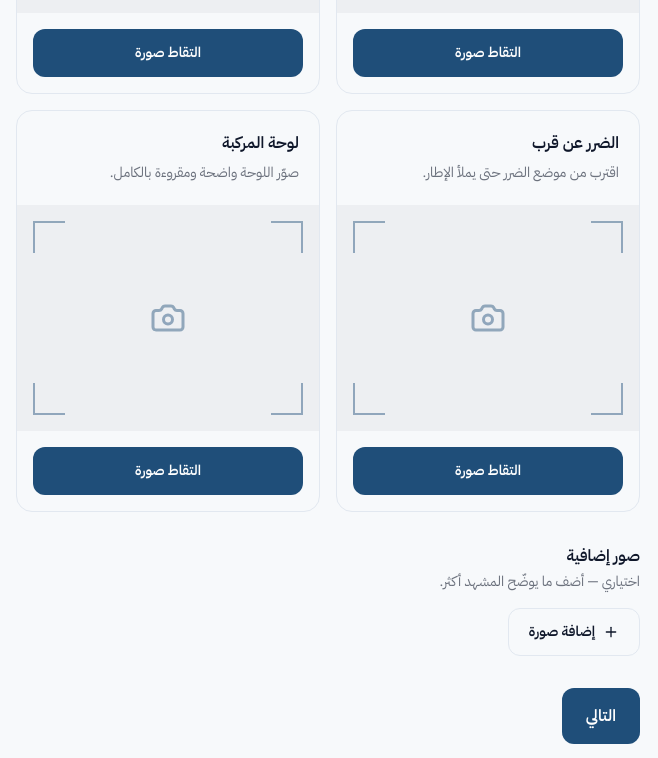
Test: counterparty join — signed in › blocks the statement step until all four photos are taken
The width and height of the screenshot is (658, 758).
(page scrolled)
Click the button "التالي" at [601, 716], box [562,688,640,744]
(page scrolled)
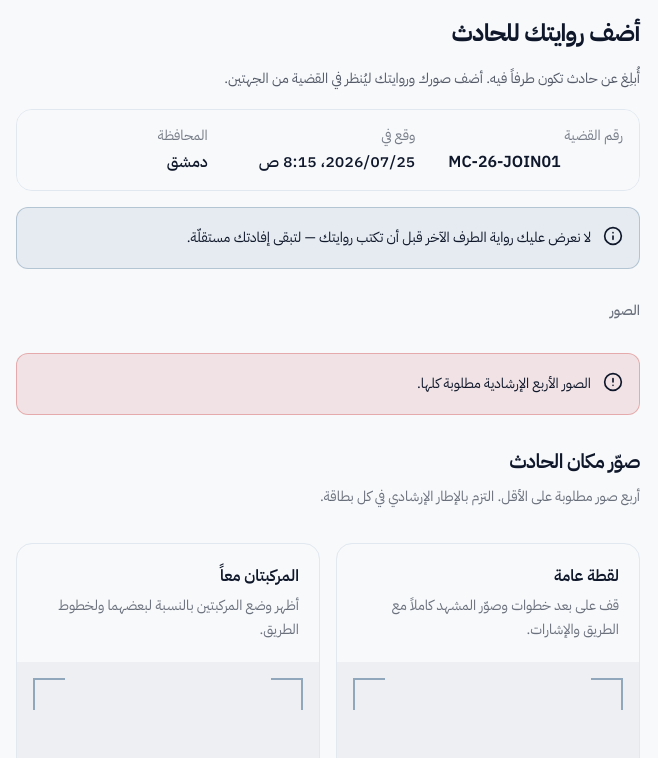
Expected: the text "الصور الأربع الإرشادية مطلوبة كلها." is shown, [417,370,591,398]
